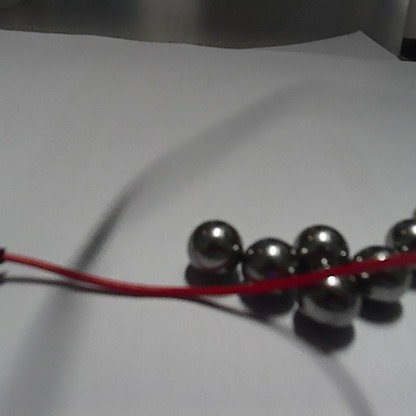ironball: (295, 262, 360, 328), (348, 242, 407, 307), (184, 216, 242, 277), (287, 218, 349, 268), (244, 233, 295, 288), (383, 217, 414, 281)
